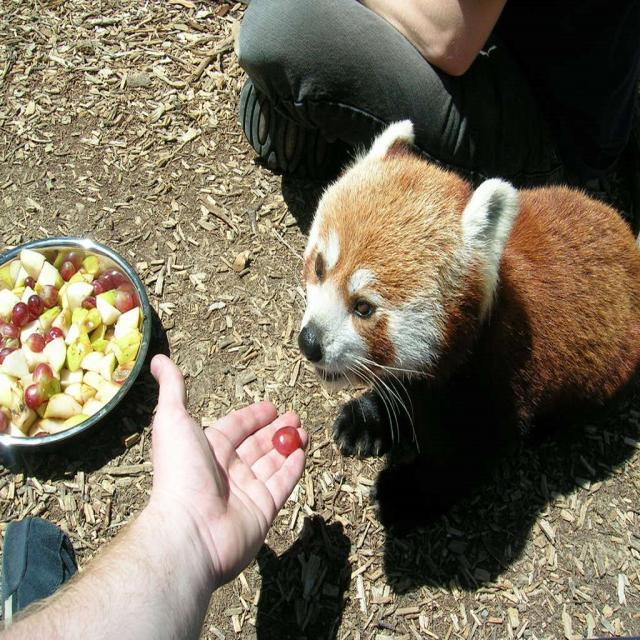Apple: (0, 247, 139, 438)
